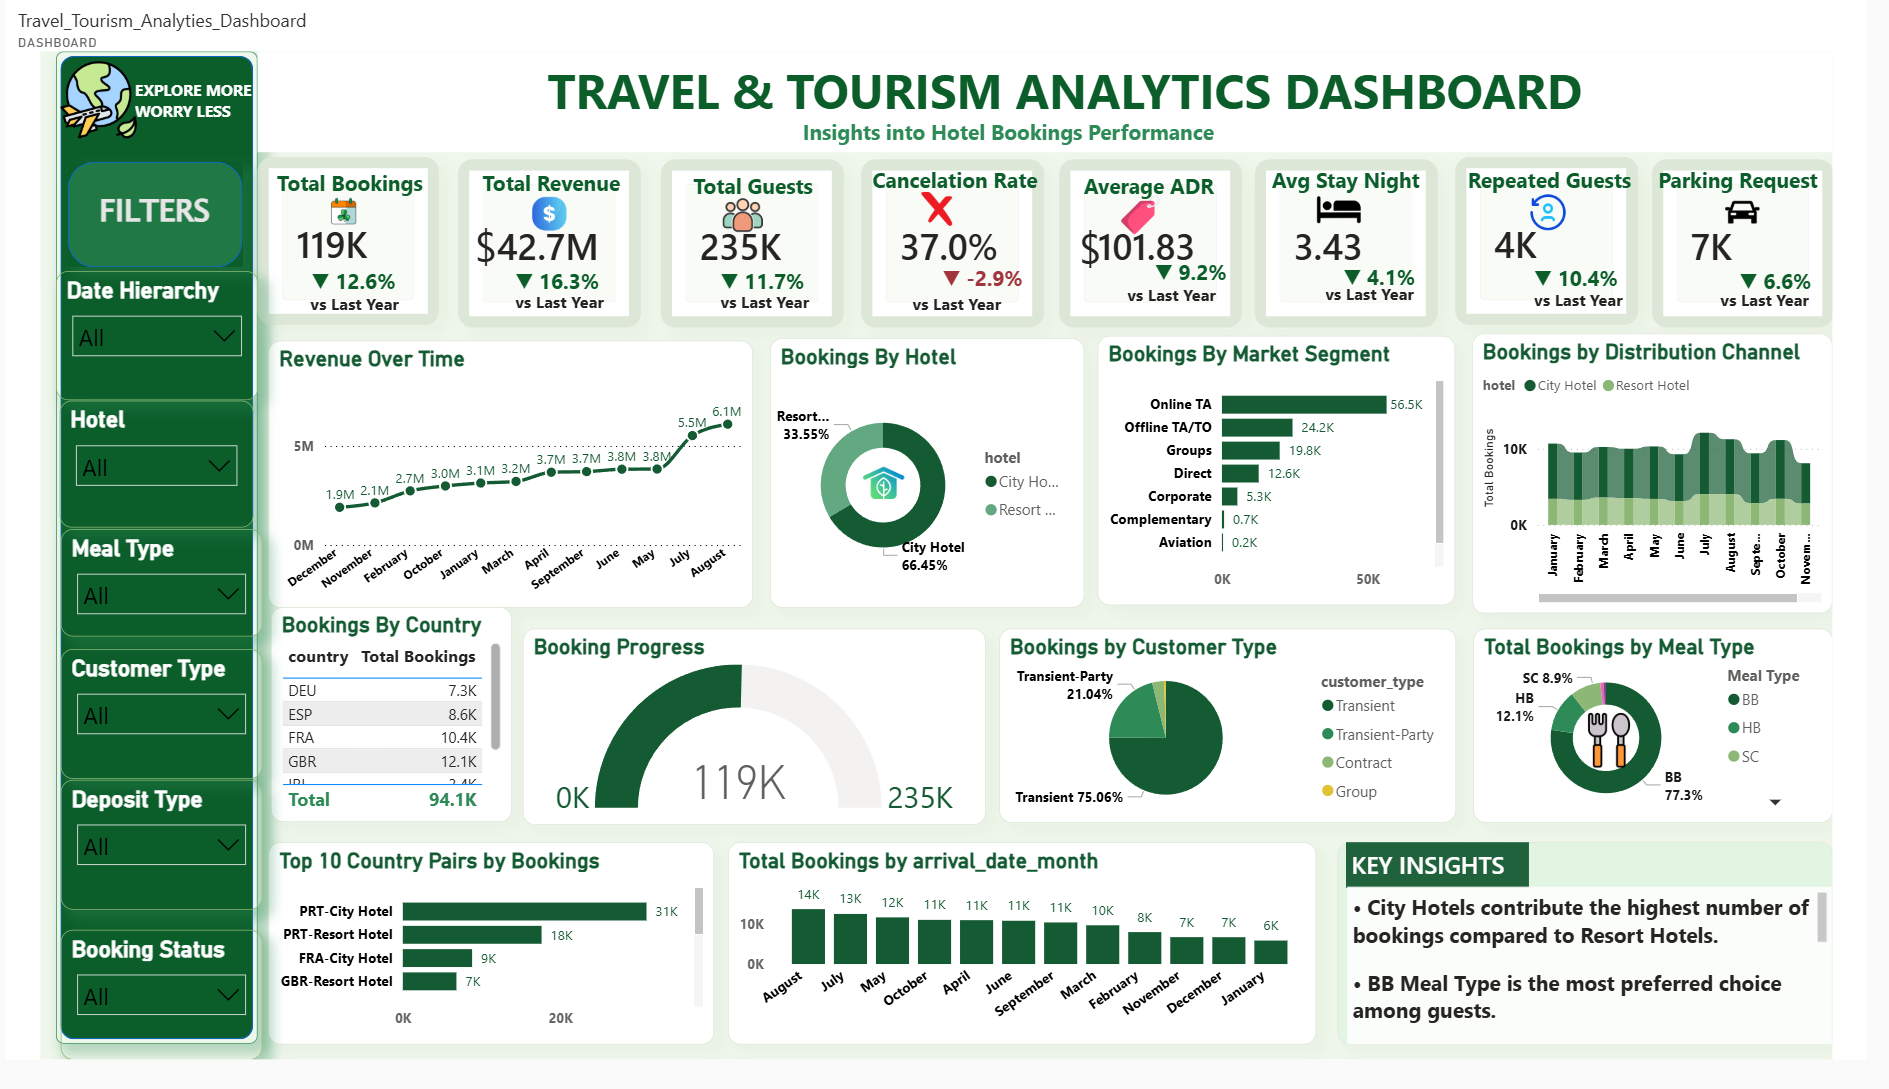

The dashboard page shown, as its layout file describes it:
{"tool":"powerbi","page":{"name":"Dashboard","canvas":[1600,900],"ordinal":0},"visuals":[{"type":"shape","box":[14,0,180,886],"z":0},{"type":"textbox","box":[194,0,1406,90],"z":1000},{"type":"textbox","box":[254,54,1092,70],"z":2000},{"type":"cardVisual","fields":{"Data":["Key Measures Table.Total Bookings"]},"box":[194,94,162,150],"z":3000},{"type":"textbox","box":[154,100,244,72],"z":4000},{"type":"textbox","box":[204,210,154,74],"z":5000},{"type":"textbox","box":[202,186,154,44],"z":6000},{"type":"image","box":[236,130,70,26],"z":7000},{"type":"cardVisual","fields":{"Data":["Key Measures Table.Total Revenue"]},"box":[373.1,96.2,163.5,150],"z":8000},{"type":"cardVisual","fields":{"Data":["Key Measures Table.Total Guests"]},"box":[553.8,96.2,163.5,150],"z":9000},{"type":"cardVisual","fields":{"Data":["Key Measures Table.Cancellation Rate %"]},"box":[732.7,96.2,163.5,150],"z":10000},{"type":"cardVisual","fields":{"Data":["Key Measures Table.Average ADR"]},"box":[909.6,96.2,163,150],"z":11000},{"type":"cardVisual","fields":{"Data":["Key Measures Table.Average Stay Nights"]},"box":[1084.6,96.2,163,150],"z":12000},{"type":"cardVisual","fields":{"Data":["Key Measures Table.Repeated Guests"]},"box":[1263.5,94.2,163.5,150],"z":13000},{"type":"cardVisual","fields":{"Data":["Key Measures Table.Parking Requests"]},"box":[1438.5,96.2,162,150],"z":14000},{"type":"textbox","box":[382.7,142.3,153.8,115.4],"z":15000},{"type":"textbox","box":[378.8,100,153.8,53.8],"z":16000},{"type":"textbox","box":[419.2,186.5,153.8,50],"z":17000},{"type":"textbox","box":[419.2,207.7,153.8,44.2],"z":18000},{"type":"image","box":[436.5,119.2,36.5,51.9],"z":19000},{"type":"textbox","box":[559.6,101.9,153.8,40.4],"z":20000},{"type":"textbox","box":[601.9,186.5,153.8,42.3],"z":21000},{"type":"textbox","box":[601.9,207.7,153.8,38.5],"z":22000},{"type":"image","box":[601.9,101.9,50,88.5],"z":23000},{"type":"textbox","box":[732.7,96.2,194.2,34.6],"z":24000},{"type":"textbox","box":[800,184.6,153.8,103.8],"z":25000},{"type":"textbox","box":[773.1,209.6,153.8,42.3],"z":26000},{"type":"image","box":[778.8,123.1,42.3,34.6],"z":27000},{"type":"textbox","box":[921.2,101.9,136.5,51.9],"z":28000},{"type":"image","box":[953.8,128.8,57.7,34.6],"z":29000},{"type":"textbox","box":[990.4,178.8,101.9,42.3],"z":30000},{"type":"textbox","box":[965.4,201.9,153.8,51.9],"z":31000},{"type":"textbox","box":[850,144.2,175,67.3],"z":32000},{"type":"textbox","box":[1088.5,96.2,153.8,88.5],"z":33000},{"type":"image","box":[1084.6,121.2,150,40.4],"z":34000},{"type":"textbox","box":[1142.3,200,121.2,48.1],"z":35000},{"type":"textbox","box":[1157.7,182.7,76.9,44.2],"z":36000},{"type":"textbox","box":[1257.7,96.2,178.8,53.8],"z":37000},{"type":"textbox","box":[1328.8,184.6,153.8,53.8],"z":38000},{"type":"textbox","box":[1328.8,205.8,153.8,42.3],"z":39000},{"type":"image","box":[1311.5,125,69.2,36.5],"z":40000},{"type":"textbox","box":[1405.8,96.2,194.2,46.2],"z":41000},{"type":"image","box":[1503.8,107.7,30.8,71.2],"z":42000},{"type":"textbox","box":[1446.2,186.5,153.8,53.8],"z":43000},{"type":"textbox","box":[1446.2,205.8,153.8,50],"z":44000},{"type":"lineChart","title":"Revenue Over Time","fields":{"Y":["Key Measures Table.Total Revenue"],"Category":["hotel_bookings.reservation_status_date.Variation.Date Hierarchy.Month"]},"box":[203.8,257.7,432.7,238.5],"z":45000},{"type":"donutChart","title":"Bookings By Hotel","fields":{"Category":["hotel_bookings.hotel"],"Y":["Key Measures Table.Total Bookings"]},"box":[651.9,255.8,280.8,240.4],"z":46000},{"type":"image","box":[713.5,363.5,78.8,44.2],"z":47000},{"type":"clusteredBarChart","title":"Bookings By Market Segment","fields":{"Category":["hotel_bookings.market_segment"],"Y":["Key Measures Table.Total Bookings"]},"box":[944.2,253.8,319.2,240.4],"z":48000},{"type":"ribbonChart","title":"Bookings by Distribution Channel","fields":{"Y":["Key Measures Table.Total Bookings"],"Category":["hotel_bookings.reservation_status_date.Variation.Date Hierarchy.Month"],"Series":["hotel_bookings.hotel"]},"box":[1278,252,322,250],"z":49000},{"type":"tableEx","title":"Bookings By Country","fields":{"Values":["hotel_bookings.country","Key Measures Table.Total Bookings"]},"box":[205.8,496.2,215.4,192.3],"z":50000},{"type":"gauge","title":" Booking Progress","fields":{"Y":["Key Measures Table.Total Bookings"],"MaxValue":["Key Measures Table.Total Guests"],"TargetValue":["Key Measures Table.Total Revenue"]},"box":[430.8,515.4,413.5,175],"z":51000},{"type":"pieChart","title":"Bookings by Customer Type","fields":{"Category":["hotel_bookings.customer_type"],"Y":["Key Measures Table.Total Bookings"]},"box":[855.8,515.4,407.7,173.1],"z":52000},{"type":"donutChart","fields":{"Category":["hotel_bookings.Meal Type"],"Y":["Key Measures Table.Total Bookings"]},"box":[1278.8,515.4,321.2,173.1],"z":53000},{"type":"image","box":[1375,584.6,51.9,59.6],"z":54000},{"type":"clusteredBarChart","title":"Top 10 Country Pairs by Bookings","fields":{"Category":["hotel_bookings.Country Pair"],"Y":["Key Measures Table.Total Bookings"]},"box":[203.8,705.8,398.1,180.8],"z":55000},{"type":"clusteredColumnChart","fields":{"Category":["hotel_bookings.arrival_date_month"],"Y":["Key Measures Table.Total Bookings"]},"box":[613.5,705.8,525,180.8],"z":56000},{"type":"textbox","box":[1157.7,705.8,442.3,180.8],"z":57000},{"type":"textbox","box":[1165.4,705.8,163.5,40.4],"z":58000},{"type":"textbox","box":[1167.3,746.2,432.7,140.4],"z":59000},{"type":"image","box":[0,7.7,103.8,71.2],"z":60000},{"type":"textbox","box":[78.8,19.2,123.1,50],"z":61000},{"type":"shape","box":[25,98.1,155.8,94.2],"z":62000},{"type":"textbox","box":[25,117.3,146.2,71.2],"z":63000},{"type":"slicer","title":"Date Hierarchy","fields":{"Values":["hotel_bookings.reservation_status_date.Variation.Date Hierarchy.Month"]},"box":[13.5,196.2,180.8,115.4],"z":64000},{"type":"slicer","title":"Hotel","fields":{"Values":["hotel_bookings.hotel"]},"box":[17.3,311.5,173.1,113.5],"z":65000},{"type":"slicer","title":"Meal Type","fields":{"Values":["hotel_bookings.Meal Type"]},"box":[18,426,180,96],"z":66000},{"type":"slicer","title":"Customer Type","fields":{"Values":["hotel_bookings.customer_type"]},"box":[18,534,180,116],"z":67000},{"type":"slicer","title":"Deposit Type","fields":{"Values":["hotel_bookings.deposit_type"]},"box":[18,650,180,116],"z":68000},{"type":"slicer","title":"Booking Status","fields":{"Values":["hotel_bookings.Booking Status"]},"box":[18,784,180,116],"z":69000}]}

Visuals, with their boxes in screenshot pixels (x1, y1, x2, y2), scaled from the page's 1600x900 canvas onto the 1889x1089 screenshot:
shape: <region>17, 0, 229, 1072</region>
textbox: <region>229, 0, 1888, 109</region>
textbox: <region>300, 65, 1589, 150</region>
cardVisual - Key Measures Table.Total Bookings: <region>229, 114, 420, 295</region>
textbox: <region>182, 121, 470, 208</region>
textbox: <region>241, 254, 423, 344</region>
textbox: <region>238, 225, 420, 278</region>
image: <region>279, 157, 361, 189</region>
cardVisual - Key Measures Table.Total Revenue: <region>440, 116, 634, 298</region>
cardVisual - Key Measures Table.Total Guests: <region>654, 116, 847, 298</region>
cardVisual - Key Measures Table.Cancellation Rate %: <region>865, 116, 1058, 298</region>
cardVisual - Key Measures Table.Average ADR: <region>1074, 116, 1266, 298</region>
cardVisual - Key Measures Table.Average Stay Nights: <region>1281, 116, 1473, 298</region>
cardVisual - Key Measures Table.Repeated Guests: <region>1492, 114, 1685, 295</region>
cardVisual - Key Measures Table.Parking Requests: <region>1698, 116, 1888, 298</region>
textbox: <region>452, 172, 633, 312</region>
textbox: <region>447, 121, 629, 186</region>
textbox: <region>495, 226, 676, 286</region>
textbox: <region>495, 251, 676, 305</region>
image: <region>515, 144, 558, 207</region>
textbox: <region>661, 123, 842, 172</region>
textbox: <region>711, 226, 892, 277</region>
textbox: <region>711, 251, 892, 298</region>
image: <region>711, 123, 770, 230</region>
textbox: <region>865, 116, 1094, 158</region>
textbox: <region>944, 223, 1126, 349</region>
textbox: <region>913, 254, 1094, 305</region>
image: <region>919, 149, 969, 191</region>
textbox: <region>1088, 123, 1249, 186</region>
image: <region>1126, 156, 1194, 198</region>
textbox: <region>1169, 216, 1290, 268</region>
textbox: <region>1140, 244, 1321, 307</region>
textbox: <region>1004, 174, 1210, 256</region>
textbox: <region>1285, 116, 1467, 223</region>
image: <region>1281, 147, 1458, 196</region>
textbox: <region>1349, 242, 1492, 300</region>
textbox: <region>1367, 221, 1458, 275</region>
textbox: <region>1485, 116, 1696, 182</region>
textbox: <region>1569, 223, 1750, 288</region>
textbox: <region>1569, 249, 1750, 300</region>
image: <region>1548, 151, 1630, 195</region>
textbox: <region>1660, 116, 1888, 172</region>
image: <region>1775, 130, 1812, 216</region>
textbox: <region>1707, 226, 1888, 291</region>
textbox: <region>1707, 249, 1888, 310</region>
"Revenue Over Time" lineChart: <region>241, 312, 751, 600</region>
"Bookings By Hotel" donutChart: <region>770, 310, 1101, 600</region>
image: <region>842, 440, 935, 493</region>
"Bookings By Market Segment" clusteredBarChart: <region>1115, 307, 1492, 598</region>
"Bookings by Distribution Channel" ribbonChart: <region>1509, 305, 1888, 607</region>
"Bookings By Country" tableEx: <region>243, 600, 497, 833</region>
" Booking Progress" gauge: <region>509, 624, 997, 835</region>
"Bookings by Customer Type" pieChart: <region>1010, 624, 1492, 833</region>
donutChart - hotel_bookings.Meal Type x Key Measures Table.Total Bookings: <region>1510, 624, 1888, 833</region>
image: <region>1623, 707, 1685, 779</region>
"Top 10 Country Pairs by Bookings" clusteredBarChart: <region>241, 854, 711, 1073</region>
clusteredColumnChart - hotel_bookings.arrival_date_month x Key Measures Table.Total Bookings: <region>724, 854, 1344, 1073</region>
textbox: <region>1367, 854, 1888, 1073</region>
textbox: <region>1376, 854, 1569, 903</region>
textbox: <region>1378, 903, 1888, 1073</region>
image: <region>0, 9, 123, 95</region>
textbox: <region>93, 23, 238, 84</region>
shape: <region>30, 119, 213, 233</region>
textbox: <region>30, 142, 202, 228</region>
"Date Hierarchy" slicer: <region>16, 237, 229, 377</region>
"Hotel" slicer: <region>20, 377, 225, 514</region>
"Meal Type" slicer: <region>21, 515, 234, 632</region>
"Customer Type" slicer: <region>21, 646, 234, 786</region>
"Deposit Type" slicer: <region>21, 786, 234, 927</region>
"Booking Status" slicer: <region>21, 949, 234, 1088</region>
